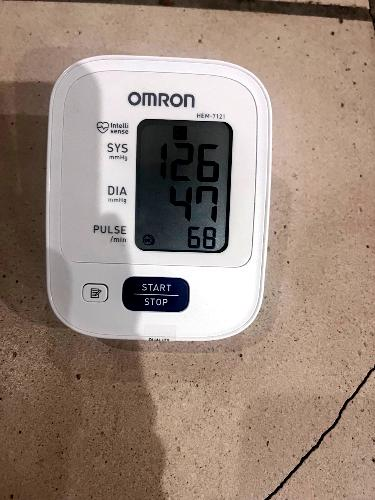bpm: (132, 118, 234, 254)
